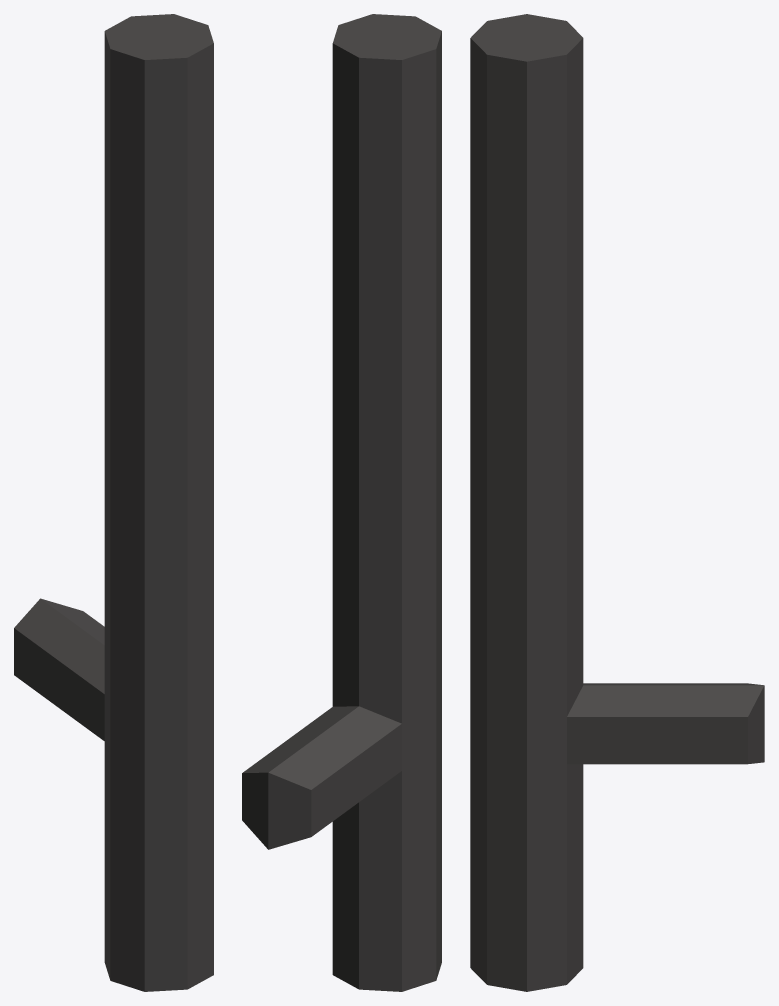
Rendered from Baton.fbx.
3 renders of one model, left to right at view 1: azimuth 30°, elevation 25°; view 2: azimuth 150°, elevation 25°; view 3: azimuth 270°, elevation 25°, orthographic.
Parts seen in each view (by area): view 1: Baton; view 2: Baton; view 3: Baton.
Boxes of the visible parts, <box> form: Baton: <box>14,14,213,991</box>; Baton: <box>242,14,441,991</box>; Baton: <box>470,14,764,991</box>.
Bounding box in the file's own units: 0.1 × 0.9093 × 0.2604.
